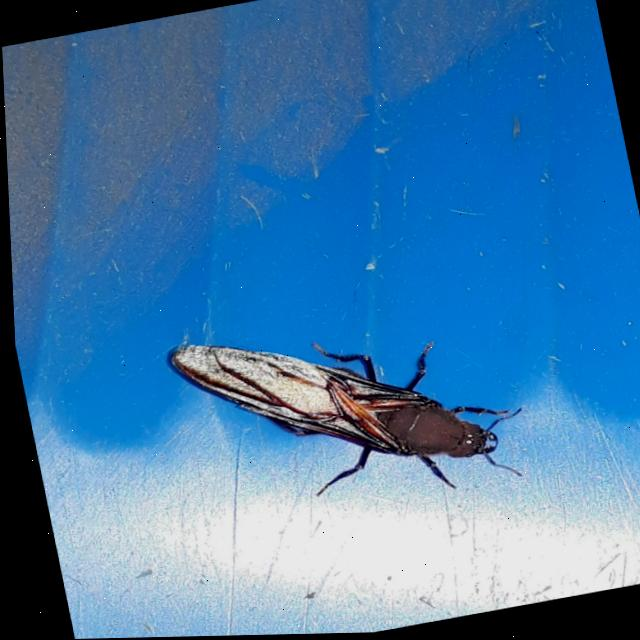Alive-Female-Alate: (163, 289, 533, 536)
